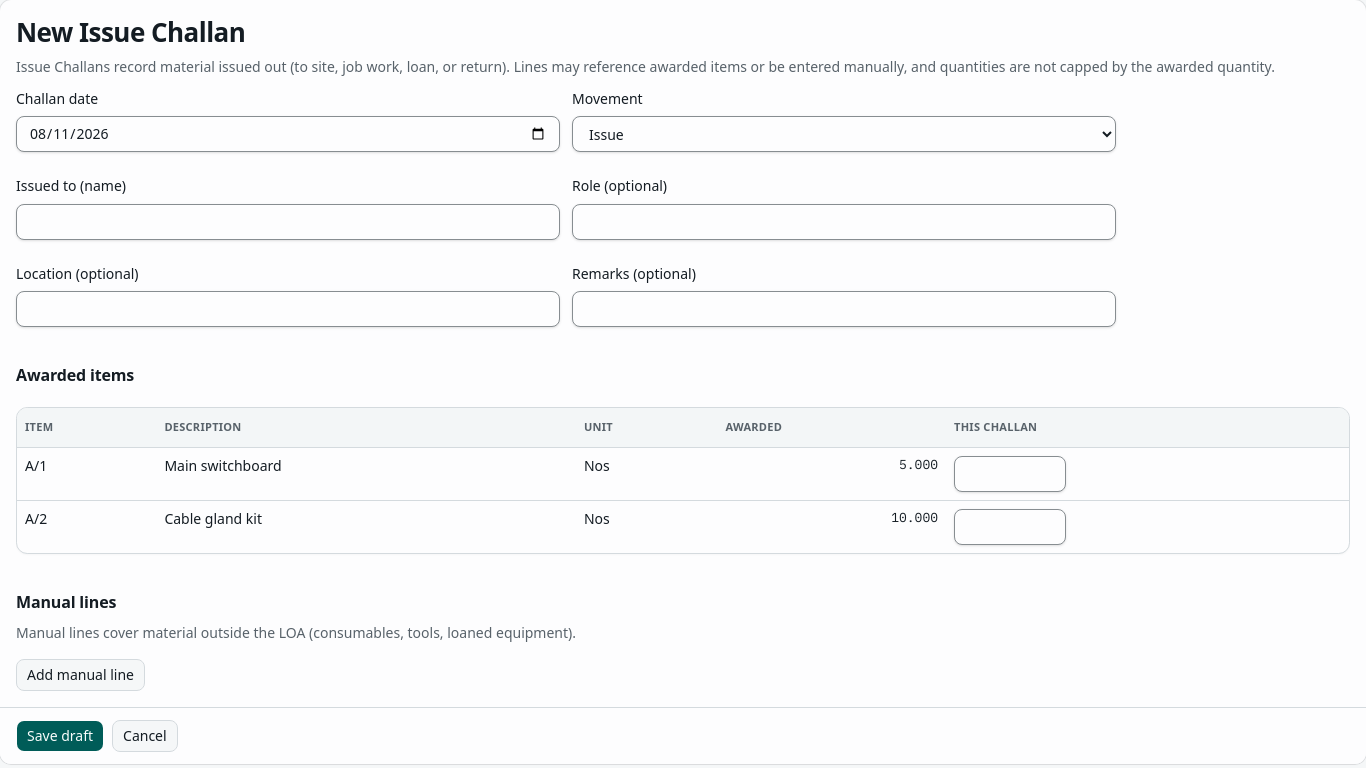
Scenario: IssueChallanEditor awarded-item quantities › binds a zero typed against an awarded item to that box and sends focus there
Expected: the text "Cable gland kit" is shown, [156, 501, 576, 553]
Type "SSE/Signal/Delhi" into the field labelled "Issued to (name)" at (288, 222), box [16, 204, 560, 240]
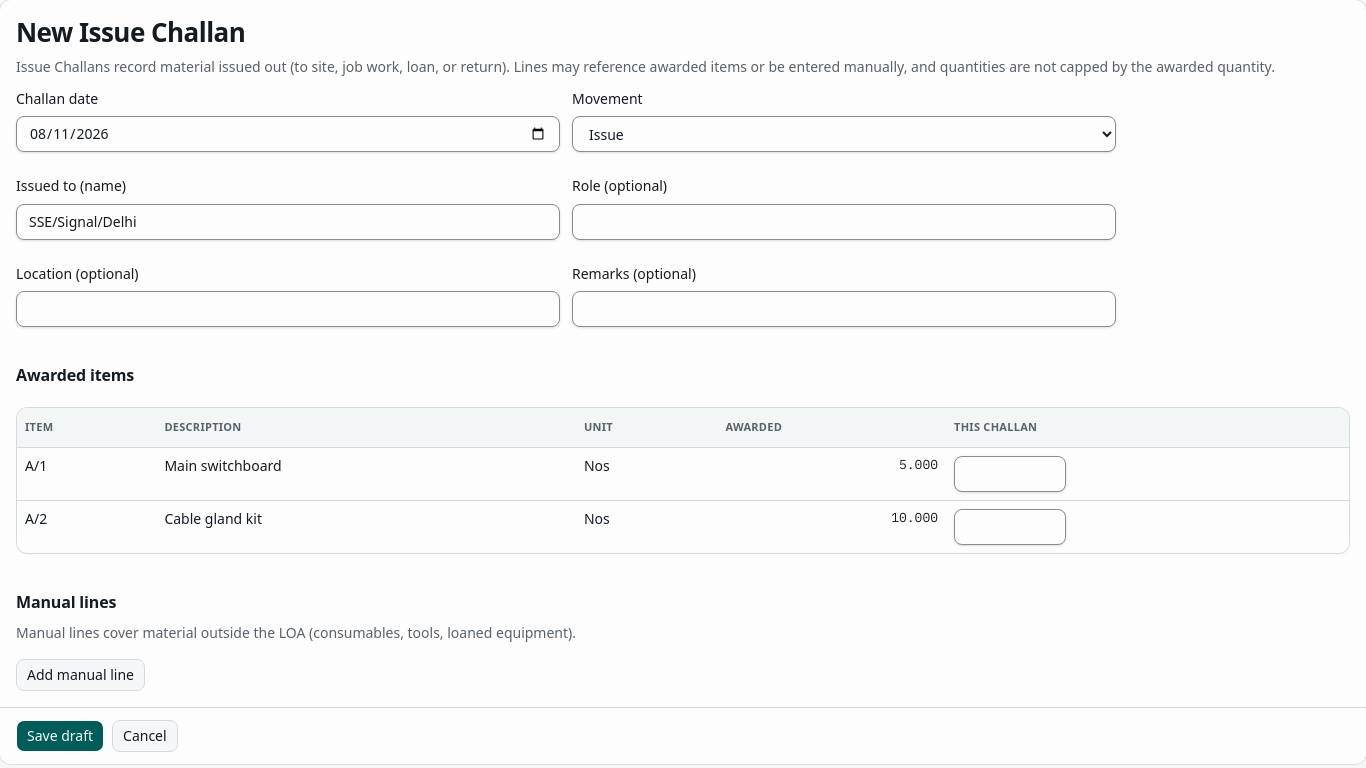
Type "0" into the field named "Quantity of A/2 on this Issue Challan" at (1010, 527), box [954, 509, 1066, 545]
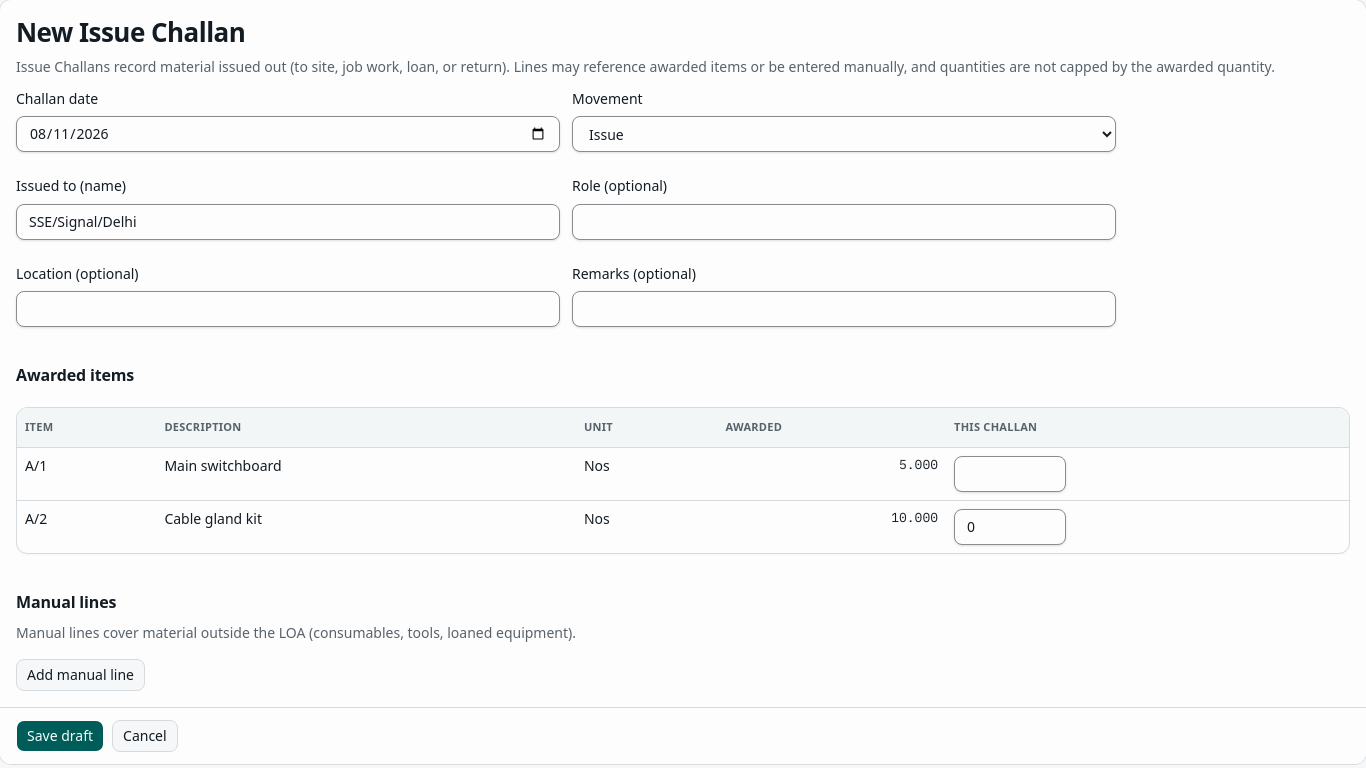
Click the button "Save draft" at (60, 736), box [16, 720, 104, 752]
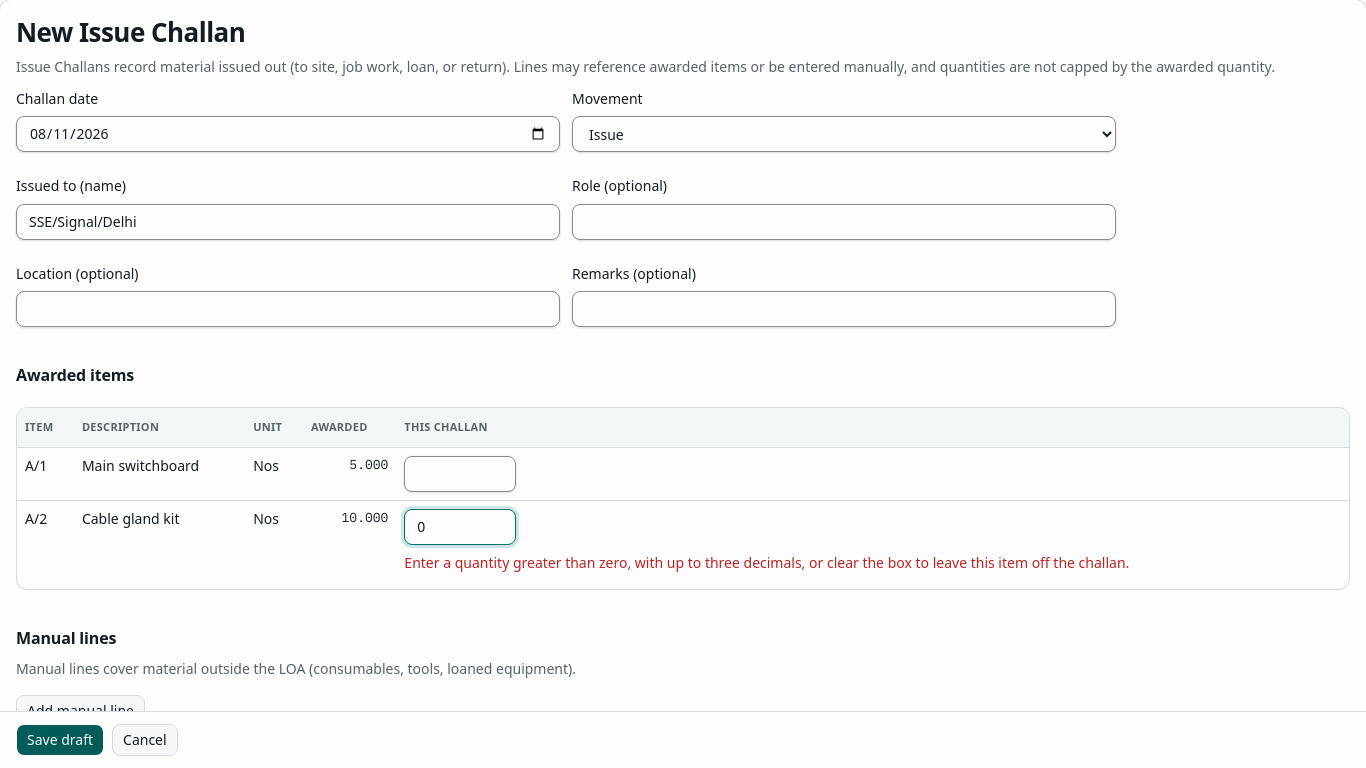
Now the message shows "Item A/2", box [16, 735, 778, 754]
